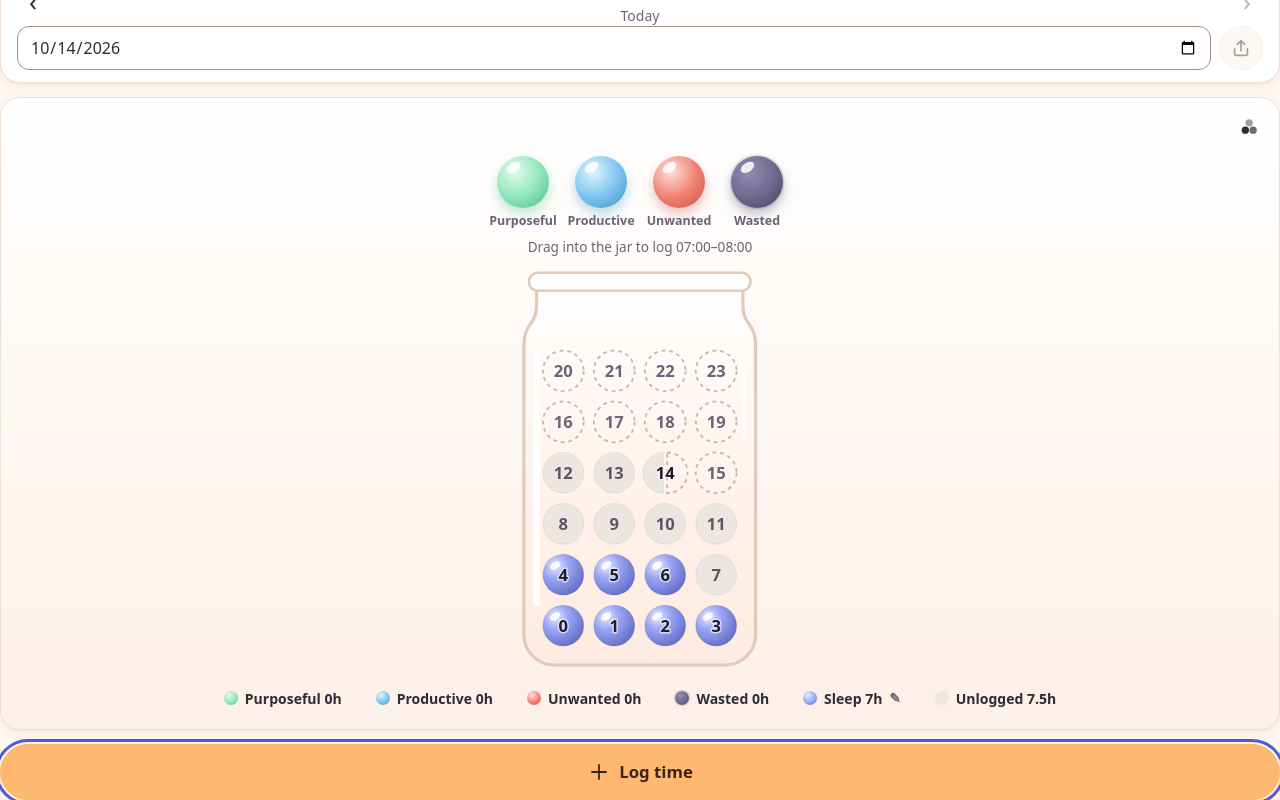
Test case: DayView › closes the sheet with Escape or a backdrop tap and restores focus
(page scrolled)
Click the button "Log time": (640,772) left=0, top=744, right=1279, bottom=799
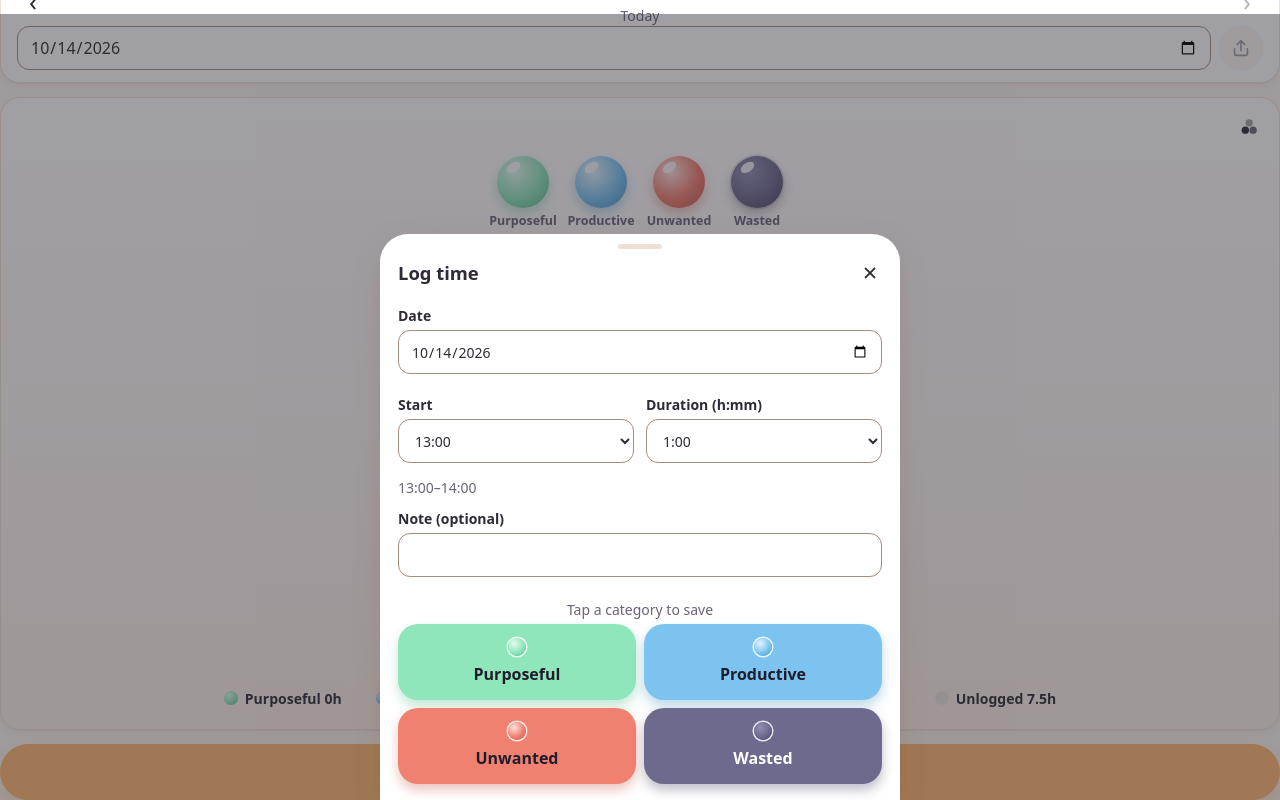
Press Escape in the dialog, box left=380, top=234, right=900, bottom=799
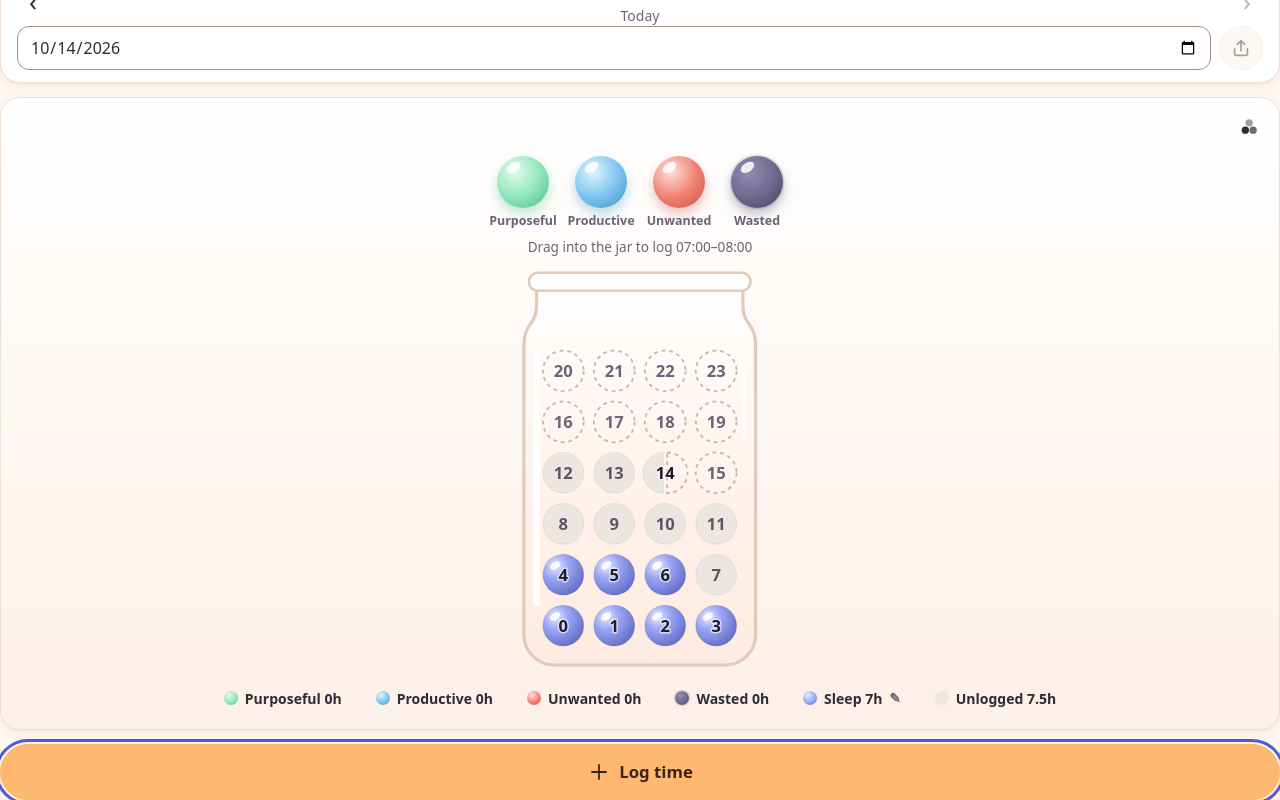
Expected: the dialog is gone
Click the button "Log time": (640,772) left=0, top=744, right=1279, bottom=799
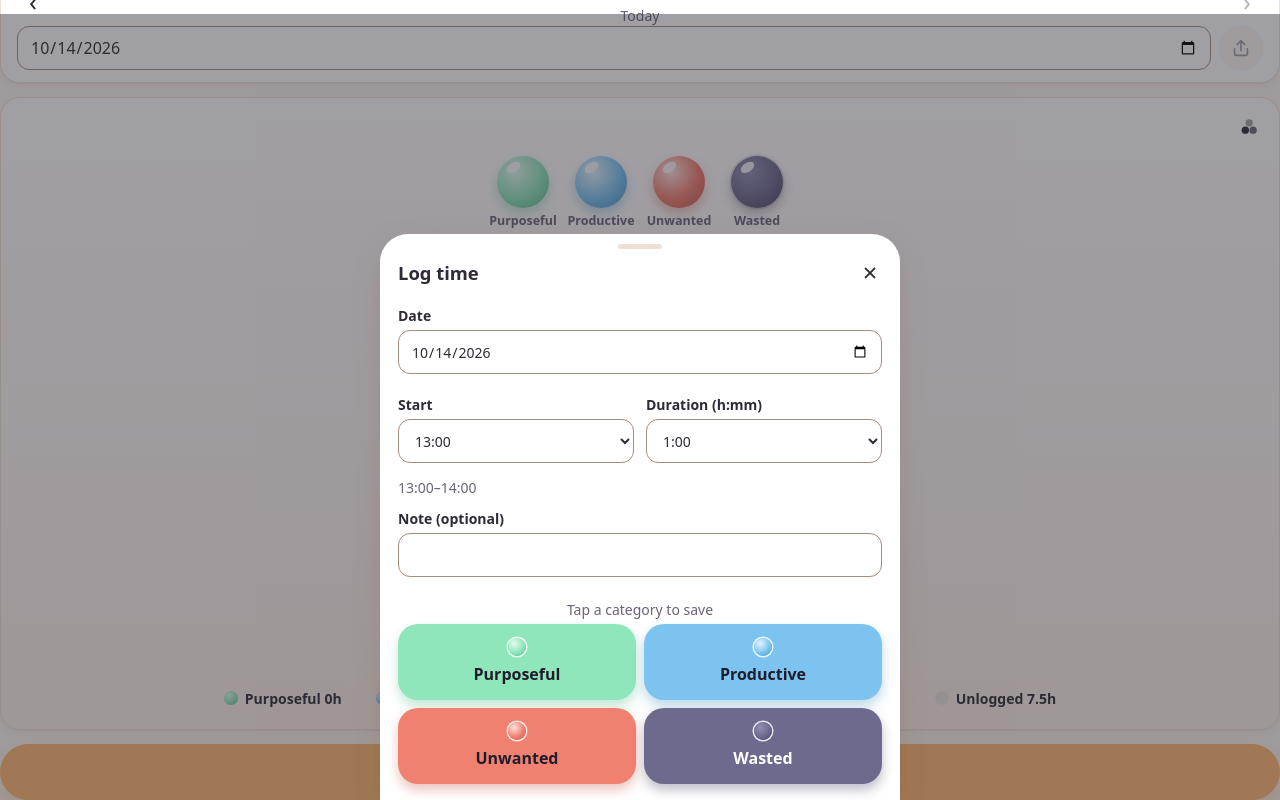
Expected: the dialog is shown, left=380, top=234, right=900, bottom=799
Click the element with class "sheet-backdrop": (77,407) left=0, top=14, right=1279, bottom=799
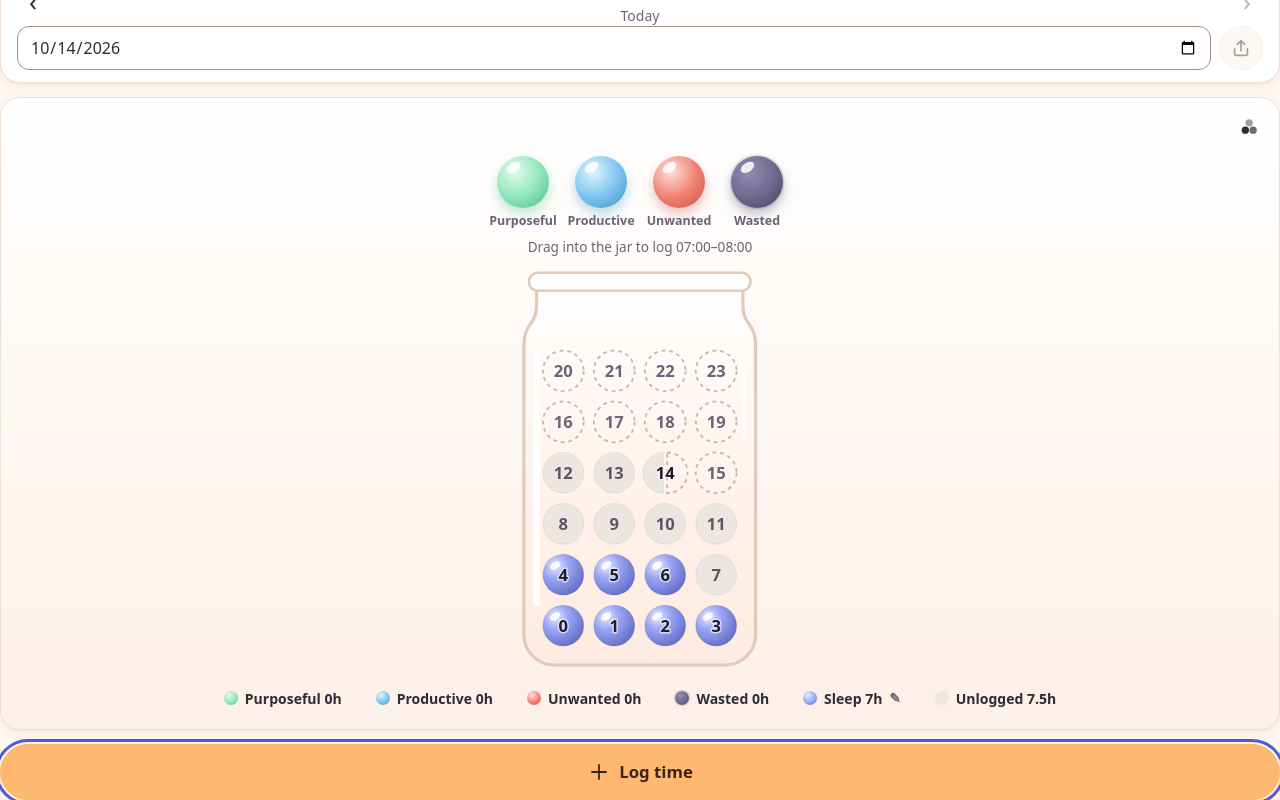
Expected: the dialog is gone
